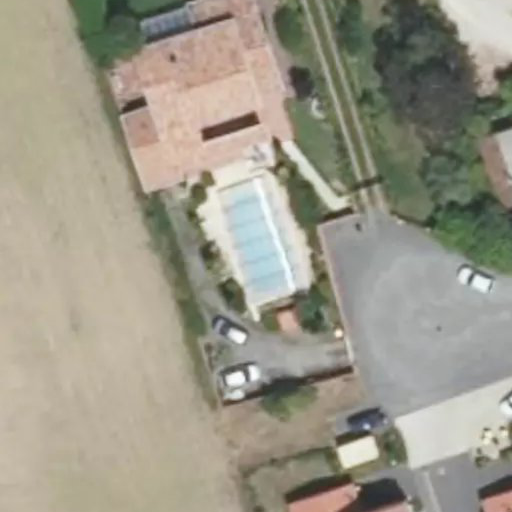pool: (219, 207, 293, 275)
